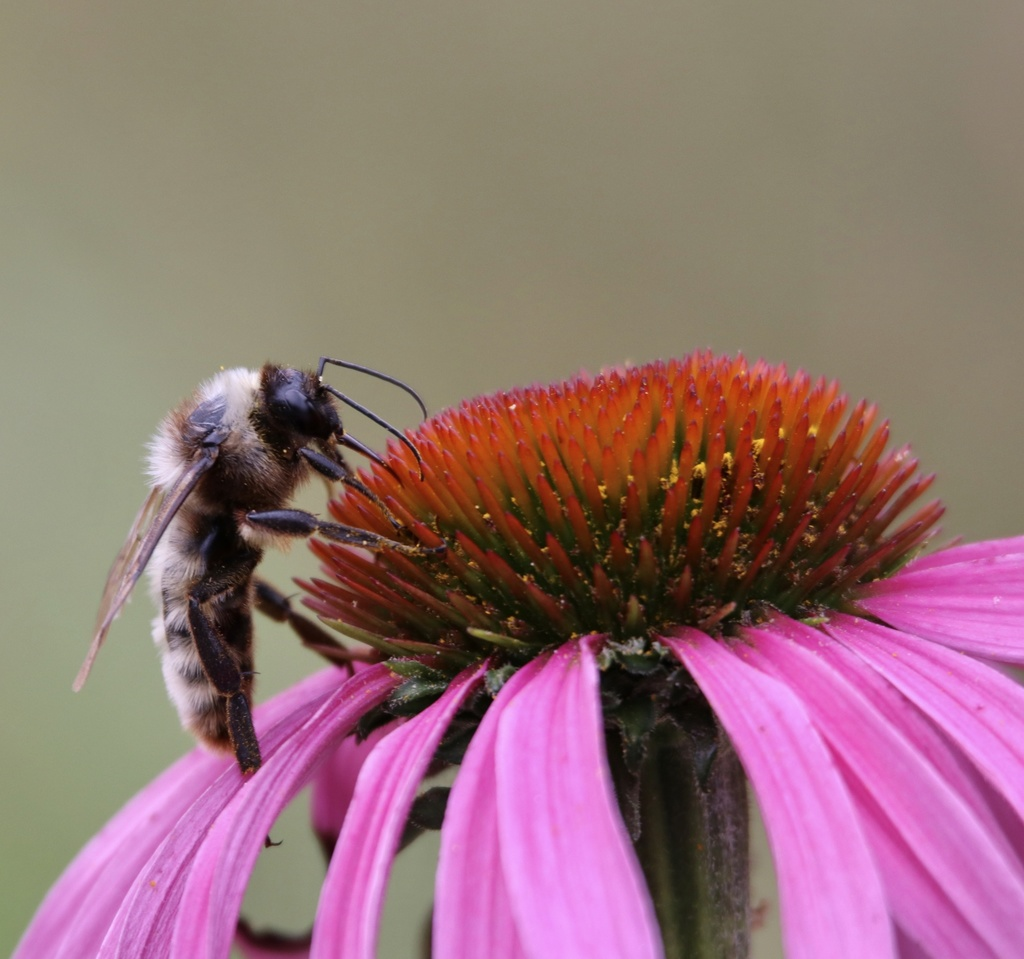bumblebee: (72, 353, 428, 781)
